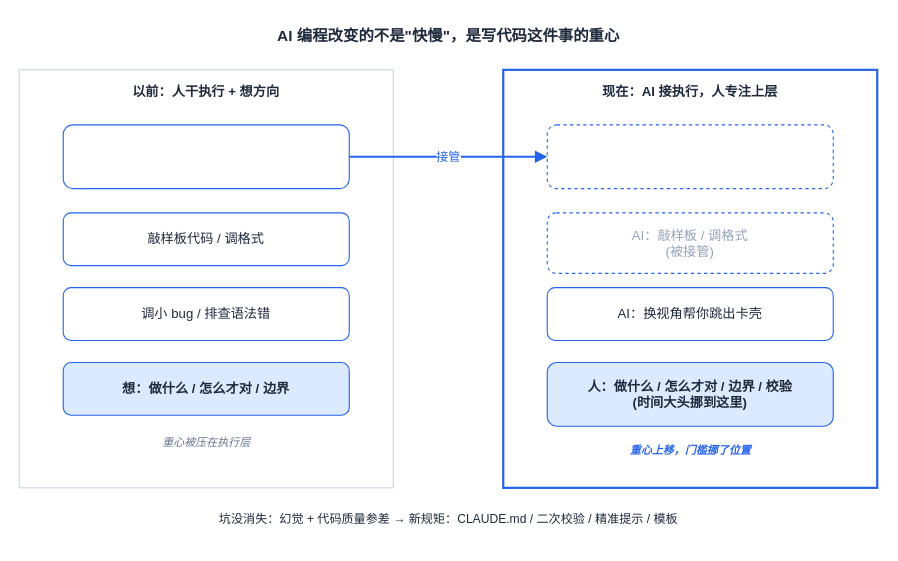
The diagram is 898 pixels wide and 561 high, and some of its shapes have lost their labels. The shapes that lost their labels are listed below. From the top down, each one's centre as x and y in pixels, then its label:
At point (205, 156): "查语法 / 翻文档 / 套样板 (大半时间)".
At point (689, 156): "AI：查语法 / 套样板 / 补逻辑 (被接管)".
